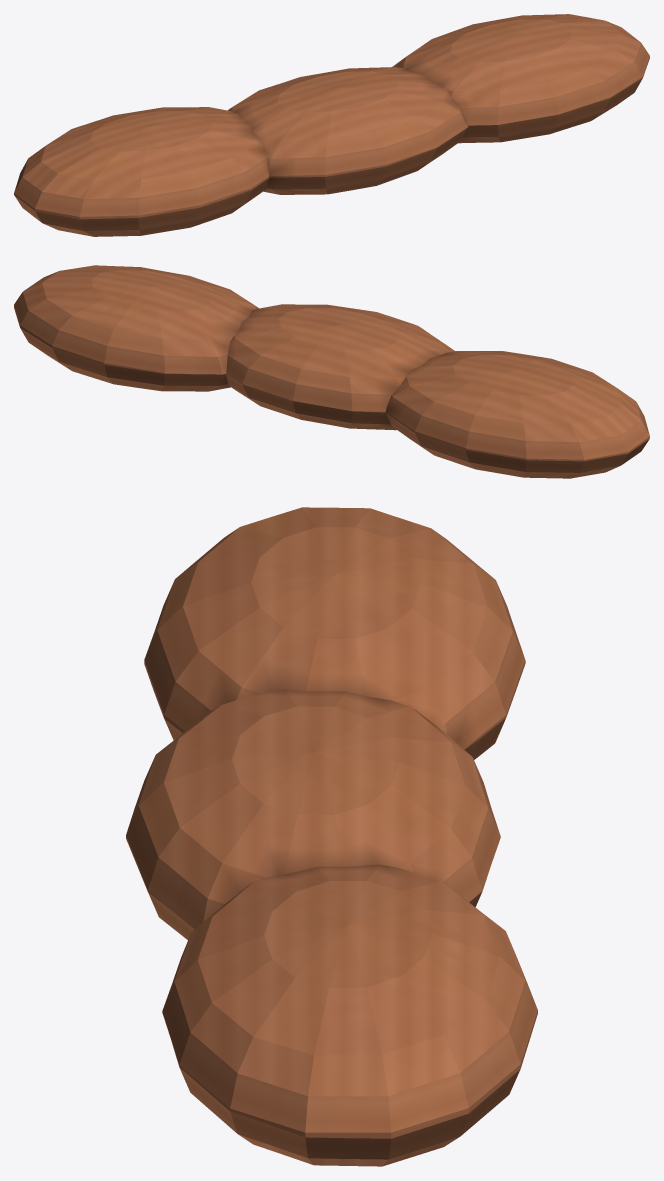
The model's file is p_bread.glb.
3 renders of one model, top to bottom at view 1: azimuth 30°, elevation 25°; view 2: azimuth 150°, elevation 25°; view 3: azimuth 270°, elevation 25°, orthographic. The views are drawn at different scales.
Visible parts, largest first — view 1: bread; view 2: bread; view 3: bread.
Part boxes in pixels (bbox=[...]): bread: bbox=[14, 14, 649, 236]; bread: bbox=[14, 265, 649, 478]; bread: bbox=[126, 507, 537, 1166].
Bounding box in the file's own units: 0.7505 × 0.1028 × 0.2189.
Materials: 1 (1 with a texture image).
